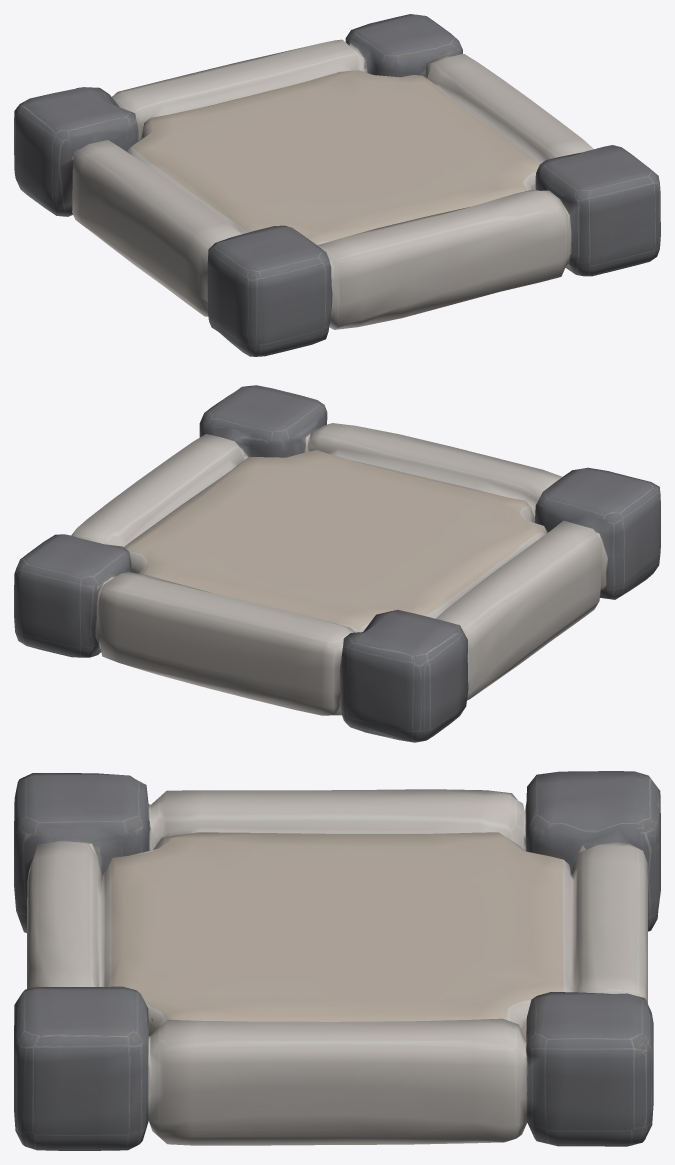
The model's file is Square.fbx.
The picture shows the model from 3 angles, top to bottom: view 1: azimuth 30°, elevation 25°; view 2: azimuth 150°, elevation 25°; view 3: azimuth 270°, elevation 25°; orthographic projection. The views are drawn at different scales.
Visible parts, largest first — view 1: tripo_node_da481f37; view 2: tripo_node_da481f37; view 3: tripo_node_da481f37.
Boxes of the visible parts, x1,y1,x2,y2 form: tripo_node_da481f37: (14, 14, 660, 356); tripo_node_da481f37: (14, 385, 660, 742); tripo_node_da481f37: (14, 771, 660, 1150).
Bounding box in the file's own units: 97.95 × 97.86 × 20.2.
Materials: 1 (1 with a texture image).
